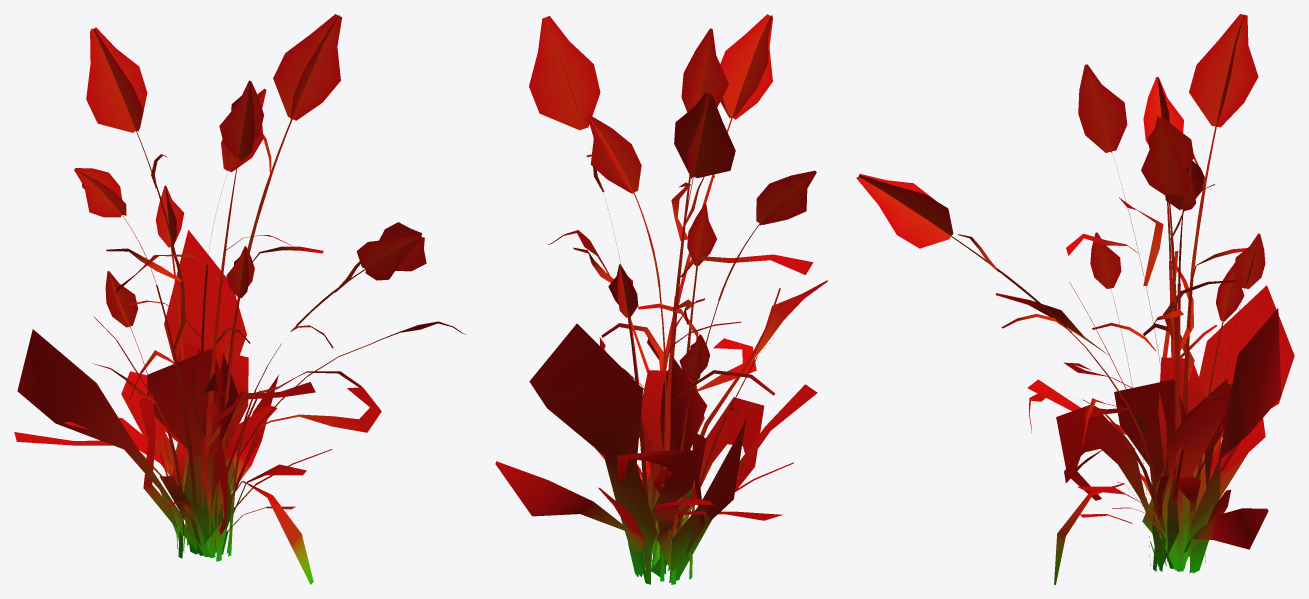
The model's file is Dry Meadow Grass_LOD2_Var2_skljc.fbx.
3 views of the same model, side by side, from view 1: azimuth 30°, elevation 25°; view 2: azimuth 150°, elevation 25°; view 3: azimuth 270°, elevation 25° (orthographic). The views are drawn at different scales.
Parts seen in each view (by area): view 1: _8c76_Var2_LOD2; view 2: _8c76_Var2_LOD2; view 3: _8c76_Var2_LOD2.
Part boxes in pixels (x1,y1,x2,y2): _8c76_Var2_LOD2: (14,14,466,584); _8c76_Var2_LOD2: (495,14,827,584); _8c76_Var2_LOD2: (856,14,1294,584).
Size of the model in its own units: 82.15 by 119 by 92.22.
